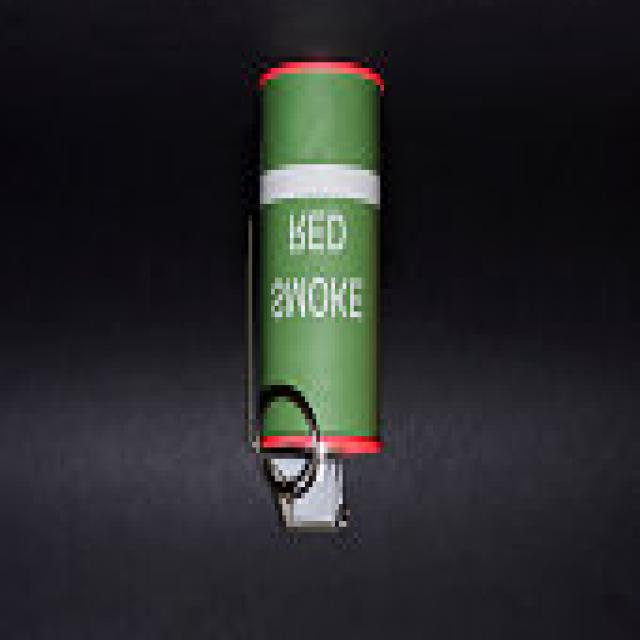grenade: (240, 56, 395, 538)
